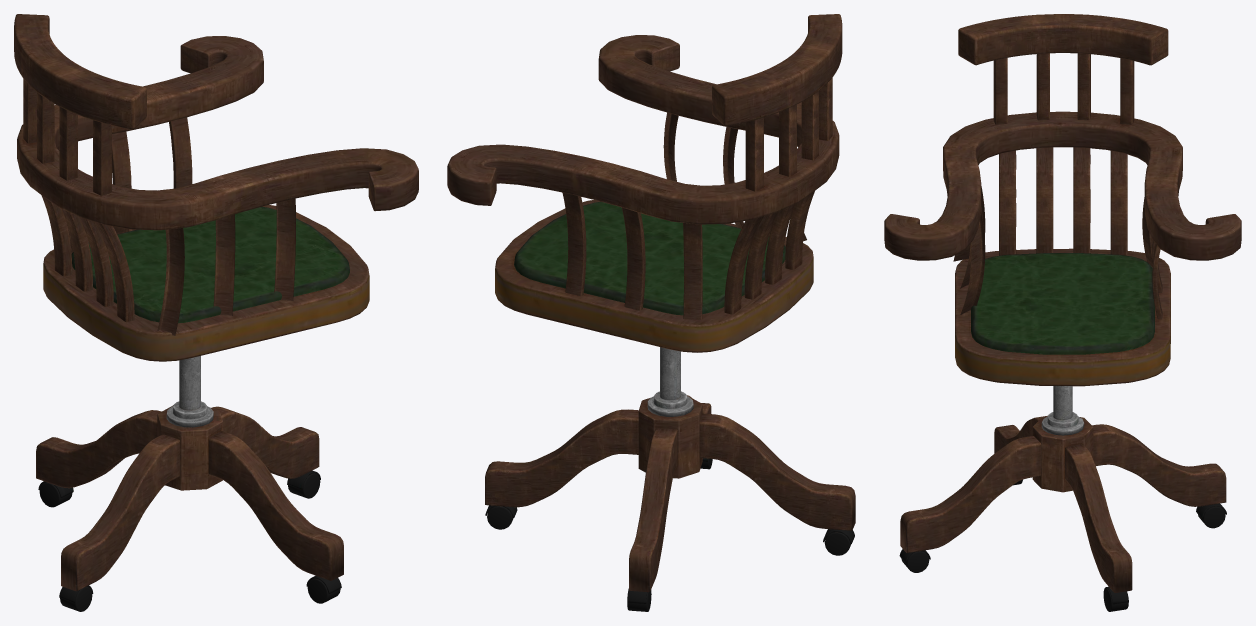
Rendered from beb42069-c65c-431b-b9da-677eb3b714f4.glb.
3 renders of one model, left to right at view 1: azimuth 30°, elevation 25°; view 2: azimuth 150°, elevation 25°; view 3: azimuth 270°, elevation 25°, orthographic. The views are drawn at different scales.
Visible parts, largest first — view 1: defaultMaterial.025; view 2: defaultMaterial.025; view 3: defaultMaterial.025.
Part boxes in pixels (x1,y1,x2,y2): defaultMaterial.025: (14, 14, 418, 611); defaultMaterial.025: (447, 14, 855, 611); defaultMaterial.025: (884, 14, 1241, 611).
Bounding box in the file's own units: 0.693 × 1.09 × 0.7561.
1 material, 1 textured.
